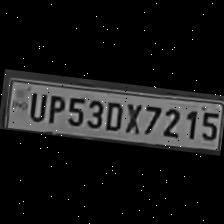1: (180, 106, 200, 140)
2: (157, 104, 182, 138)
3: (83, 95, 105, 129)
5: (196, 106, 220, 142), (62, 92, 86, 126)
7: (138, 102, 160, 137)
D: (101, 97, 125, 132)
P: (43, 90, 65, 126)
U: (24, 88, 47, 122)
X: (120, 100, 143, 135)
